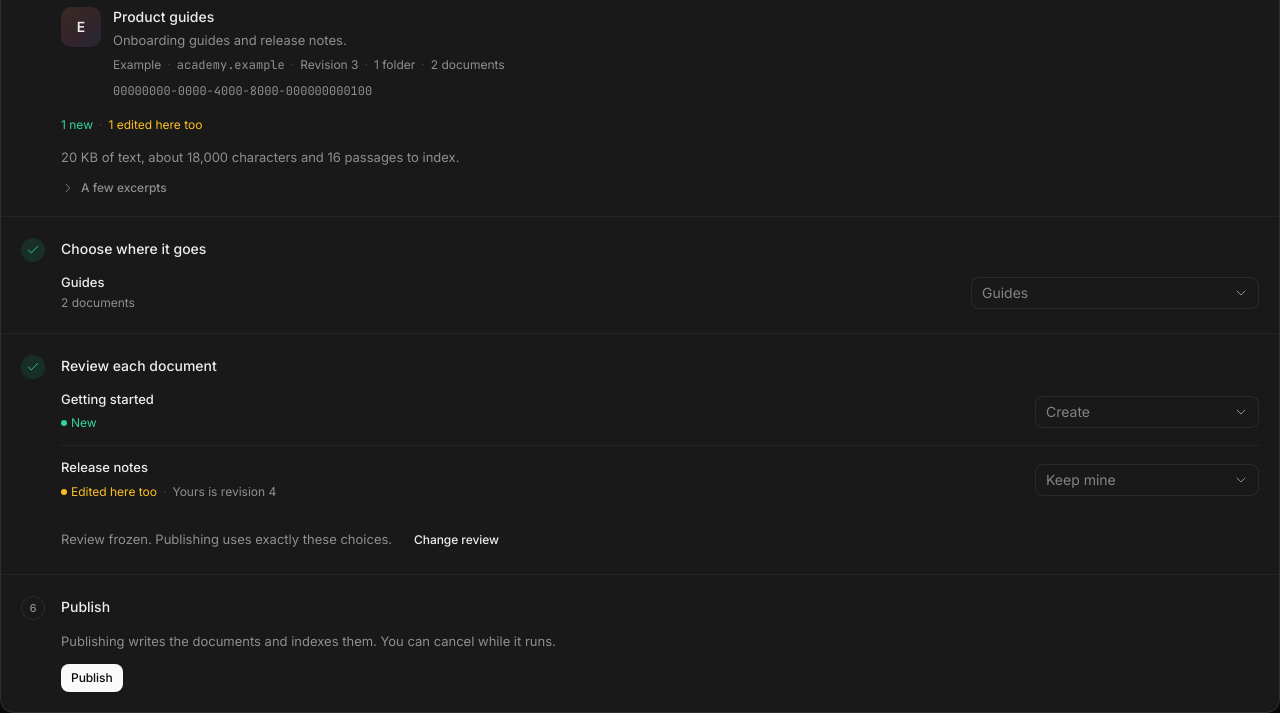
Scenario: Brain Pack import › publishes a frozen review with its digest and shows progress with a cancel
(page scrolled)
Click the button "Publish" at coordinates (92, 678), box [61, 664, 123, 692]
(page scrolled)
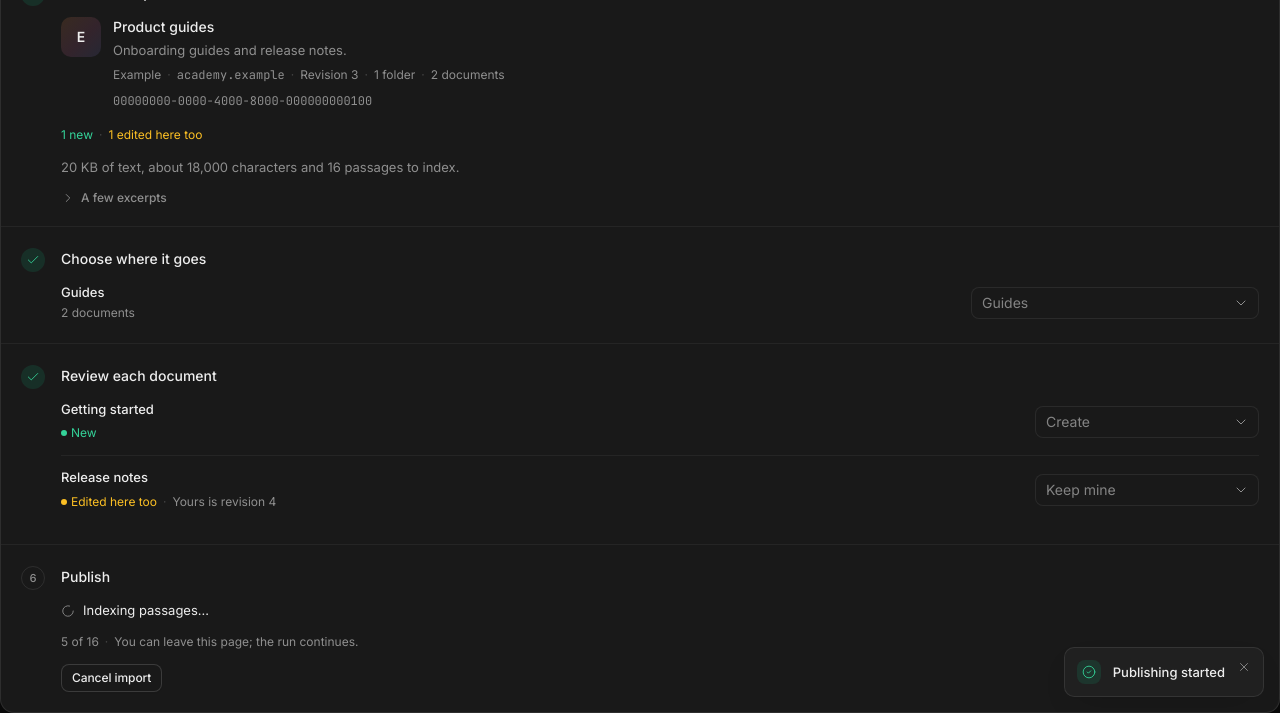
Result: the text "Indexing passages…" is shown at [61, 602, 209, 618]
Result: the text "5 of 16" is shown at [61, 632, 99, 652]
Result: the button "Cancel import" is shown at [61, 664, 162, 692]
